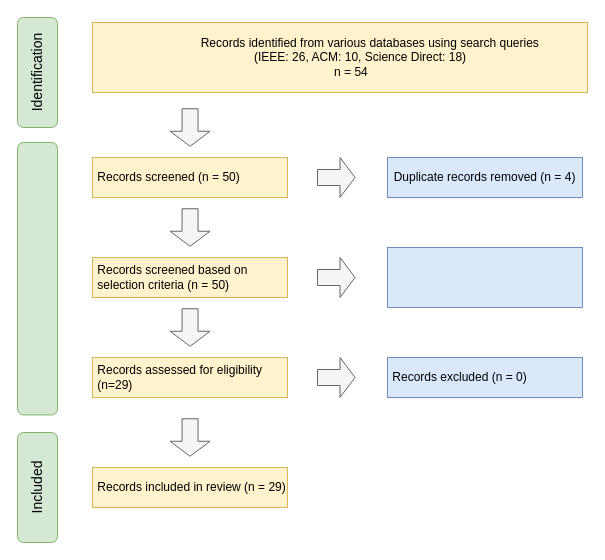
Some shapes in this 605 by 560 pixel diagram are drawn without their labels. The shapes that lost their labels are listed below. From the top down, each one's centre as x and y in pixels, then its label:
the point at 37,278: Screening
the point at 484,277: Records excluded: No open access (n = 2) Not constrained to journals (n=19)
